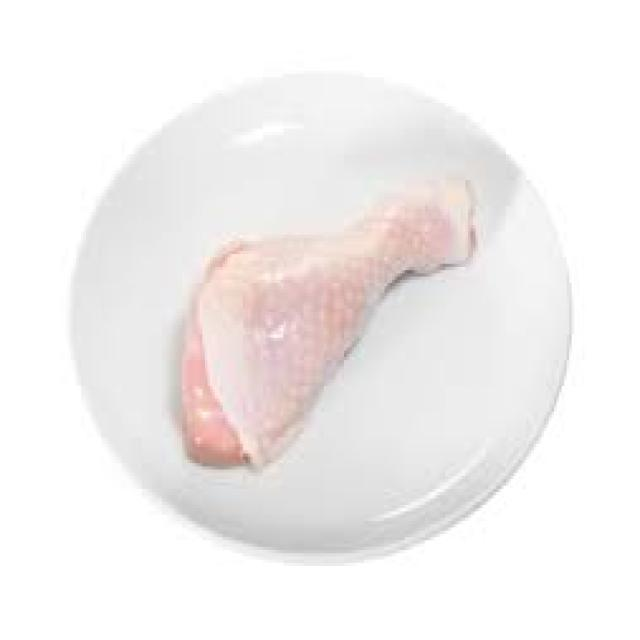leg: (152, 163, 489, 482)
